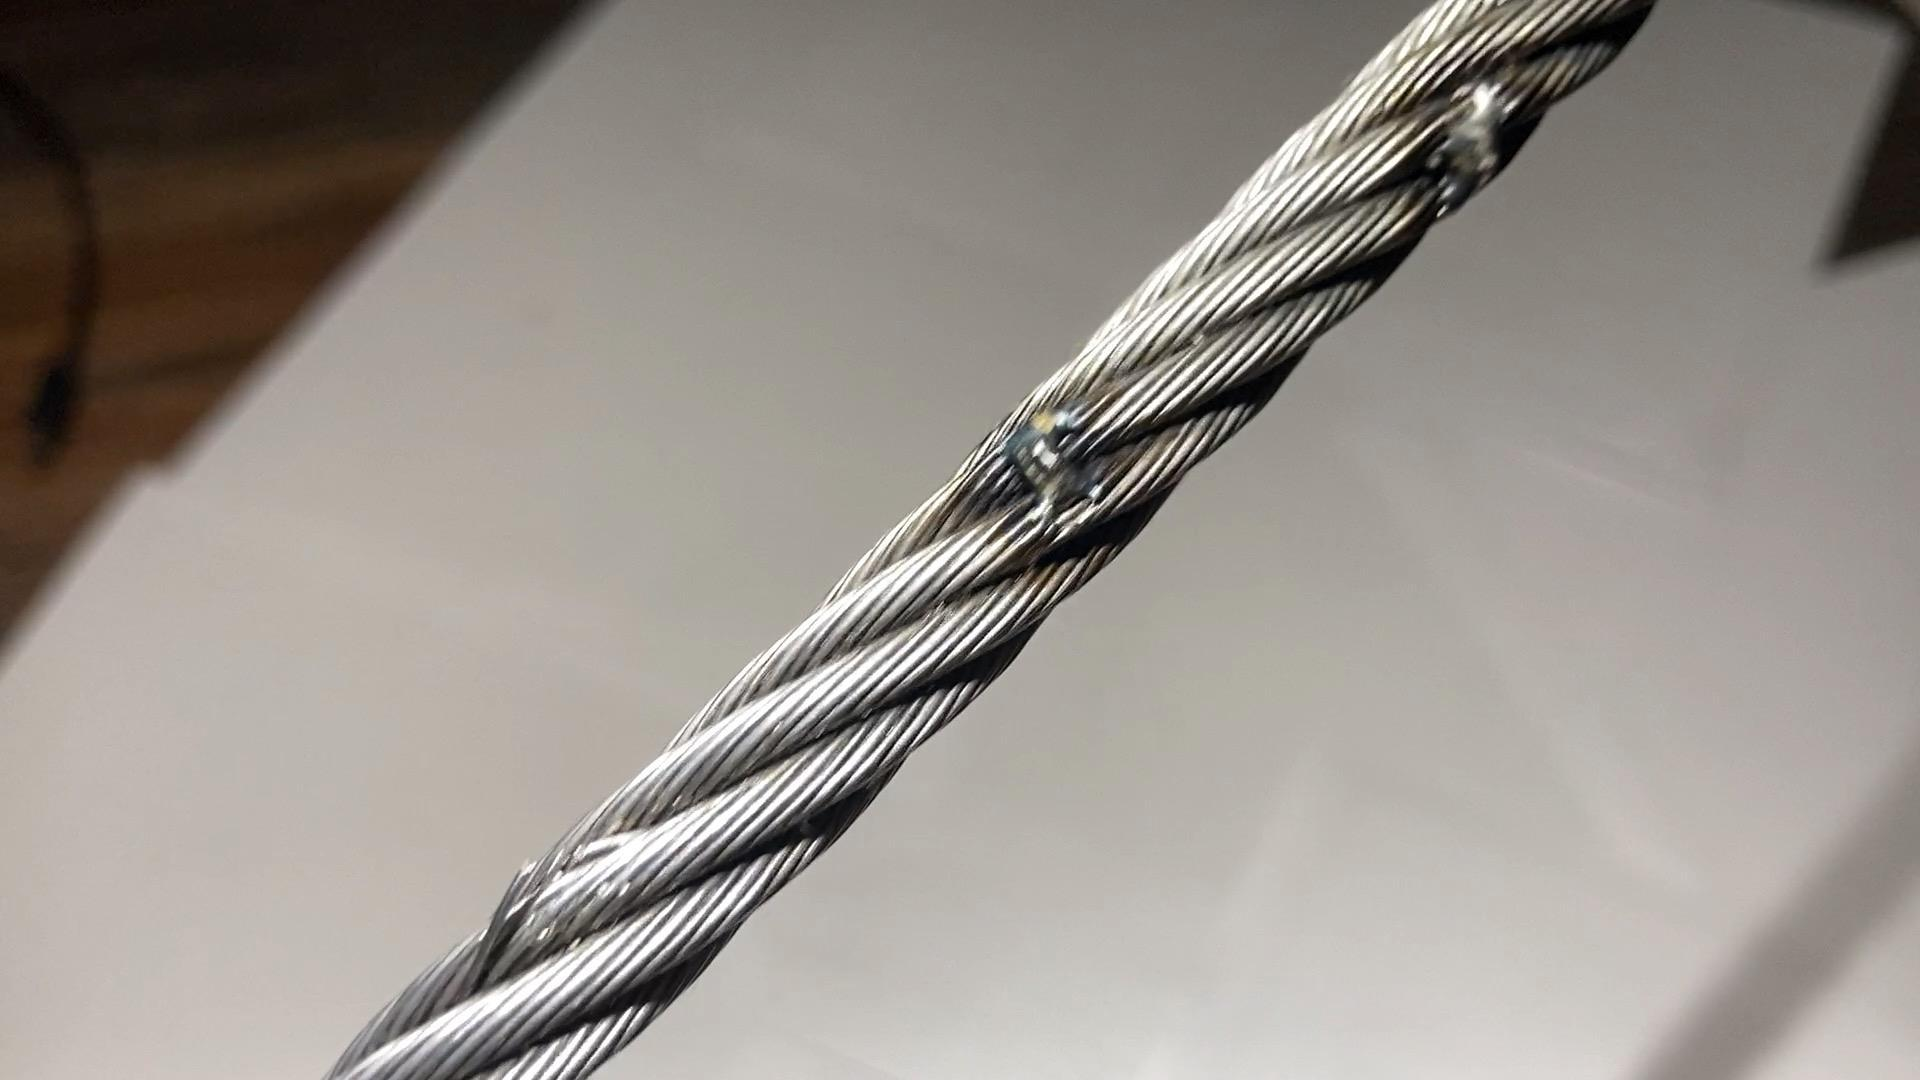break: (475, 843, 595, 940)
thunderbolt: (1011, 404, 1121, 520), (1437, 76, 1534, 194)
